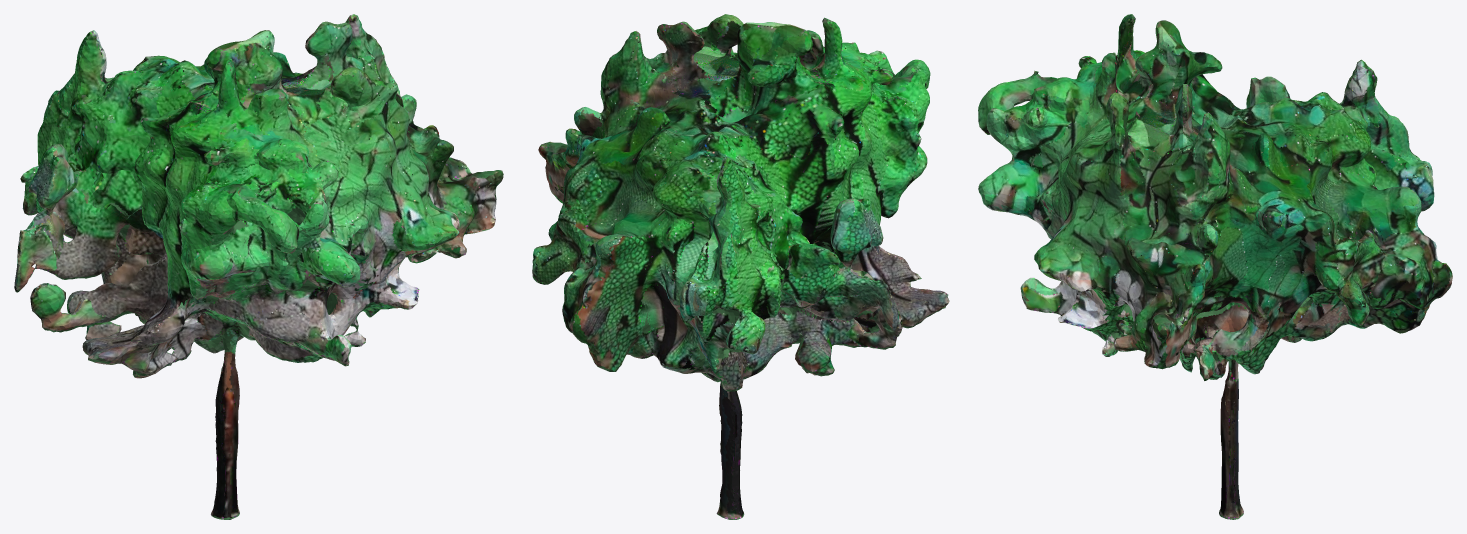
Rendered from arbol.glb.
3 renders of one model, left to right at view 1: azimuth 30°, elevation 25°; view 2: azimuth 150°, elevation 25°; view 3: azimuth 270°, elevation 25°, orthographic. The views are drawn at different scales.
Visible parts, largest first — view 1: mesh; view 2: mesh; view 3: mesh.
Boxes of the visible parts, x1,y1,x2,y2 form: mesh: [14, 14, 503, 519]; mesh: [532, 14, 949, 519]; mesh: [978, 14, 1452, 519].
Size of the model in its own units: 0.8755 by 0.9737 by 0.8749.
1 material, 1 textured.
